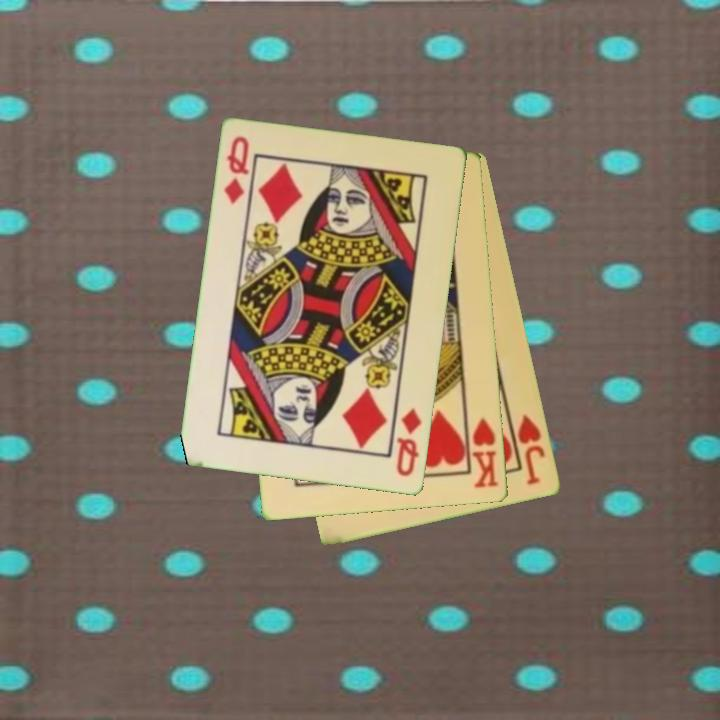Jh: (506, 408, 549, 488)
Kh: (463, 410, 502, 492)
Qd: (393, 404, 425, 480), (221, 133, 253, 208)
